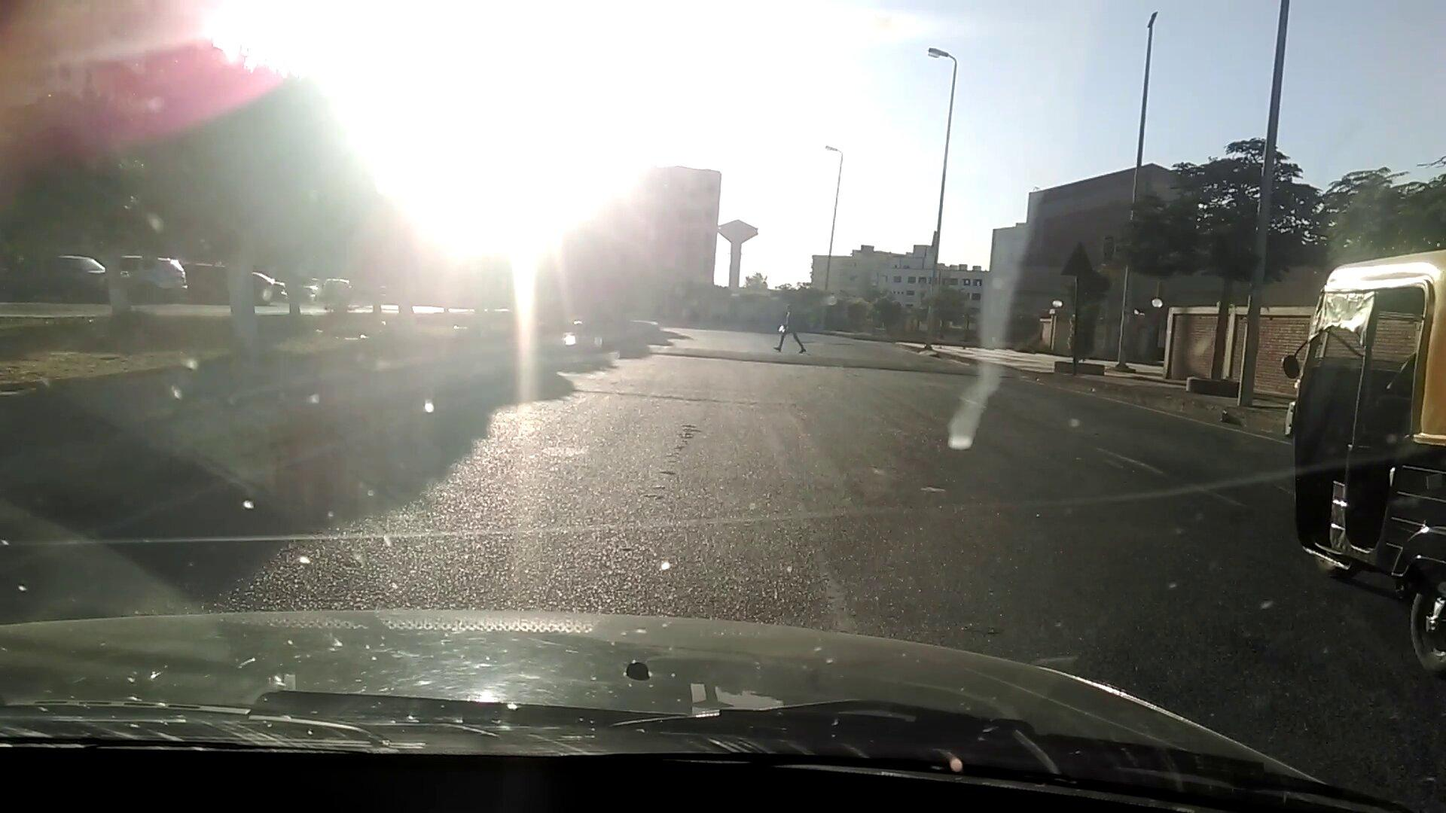Bump: (640, 340, 1022, 379)
